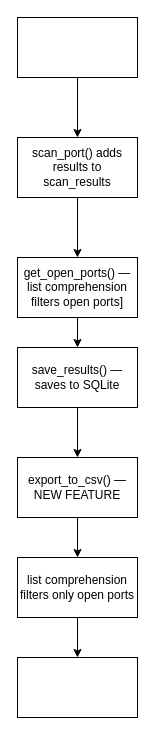
Some shapes in this 155 by 735 pixel diagram are drawn without their labels. Here are the shapes that lost their labels. From the top down, the box of each, then its label:
(16, 16, 138, 78): scan_range()
(16, 656, 138, 718): writes to scan_export.csv
